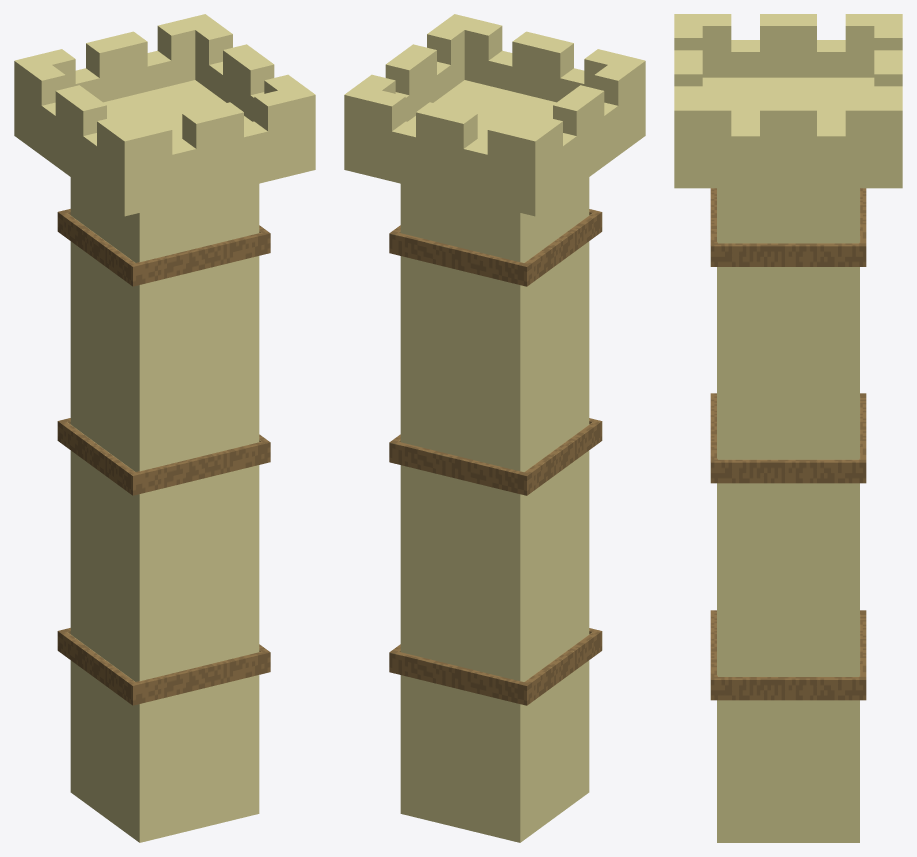
Rendered from Tower_3.glb.
3 views of the same model, side by side, from view 1: azimuth 30°, elevation 25°; view 2: azimuth 150°, elevation 25°; view 3: azimuth 270°, elevation 25° (orthographic). The views are drawn at different scales.
Parts seen in each view (by area): view 1: Tower_3; view 2: Tower_3; view 3: Tower_3.
Part boxes in pixels (<box>): Tower_3: <box>14,14,315,842</box>; Tower_3: <box>344,14,645,842</box>; Tower_3: <box>674,14,902,842</box>.
Bounding box in the file's own units: 3.53 × 12.81 × 3.53.
3 materials, 2 textured.
